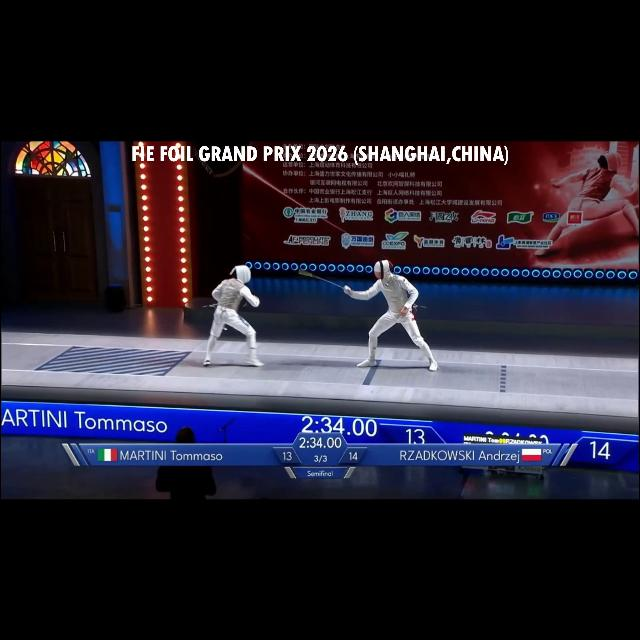blade: (294, 270, 352, 294)
